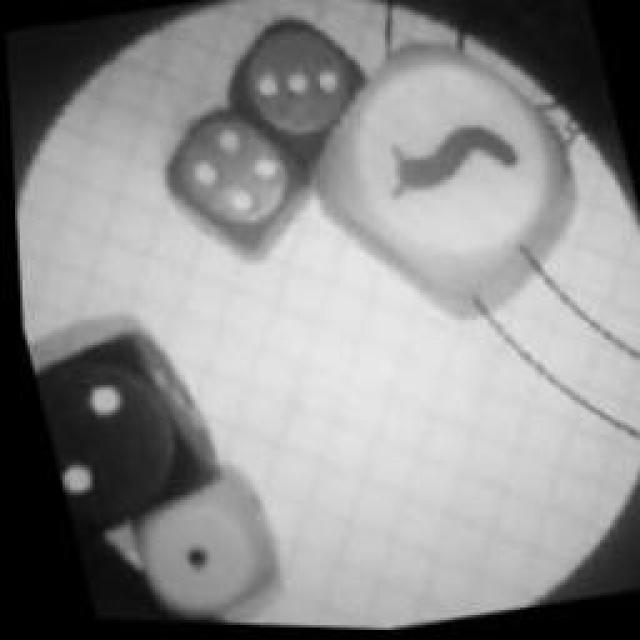dice_1: (109, 466, 294, 629)
dice_2: (20, 317, 230, 545)
dice_3: (203, 4, 385, 174)
dice_4: (142, 95, 326, 275)
